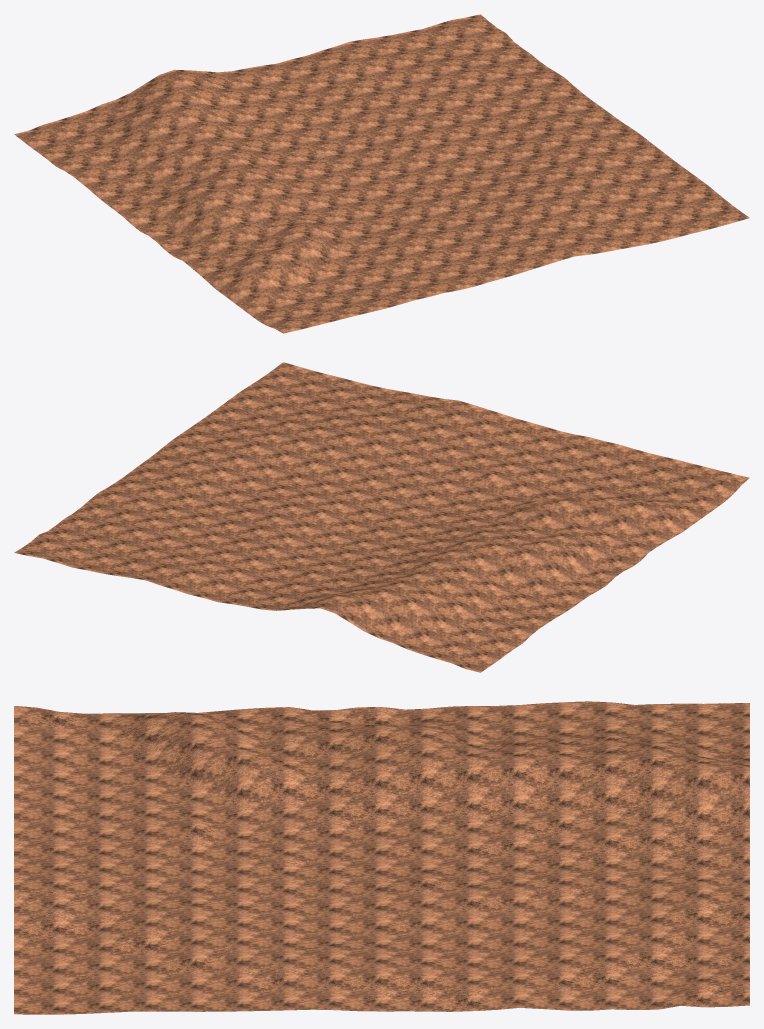
File: terrain_01_03.dae
3 views of the same model, one above another, from view 1: azimuth 30°, elevation 25°; view 2: azimuth 150°, elevation 25°; view 3: azimuth 270°, elevation 25° (orthographic). The views are drawn at different scales.
Parts seen in each view (by area): view 1: terrain_01_03-node; view 2: terrain_01_03-node; view 3: terrain_01_03-node.
Boxes of the visible parts, x1=… form: terrain_01_03-node: x1=14, y1=14, x2=749, y2=333; terrain_01_03-node: x1=14, y1=362, x2=749, y2=672; terrain_01_03-node: x1=14, y1=701, x2=749, y2=1014.
Bounding box in the file's own units: 128 × 128 × 8.88.
1 material, 1 textured.
